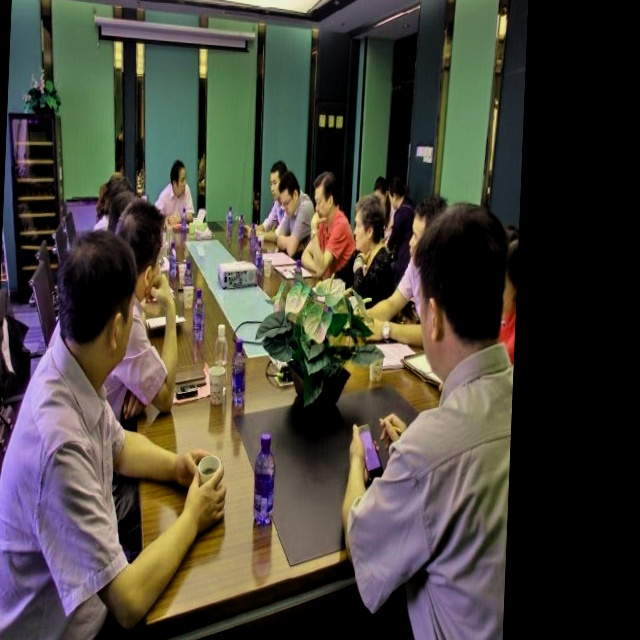Sin_Casco_Mascarrilla: (58, 228, 138, 371), (169, 160, 188, 198)
